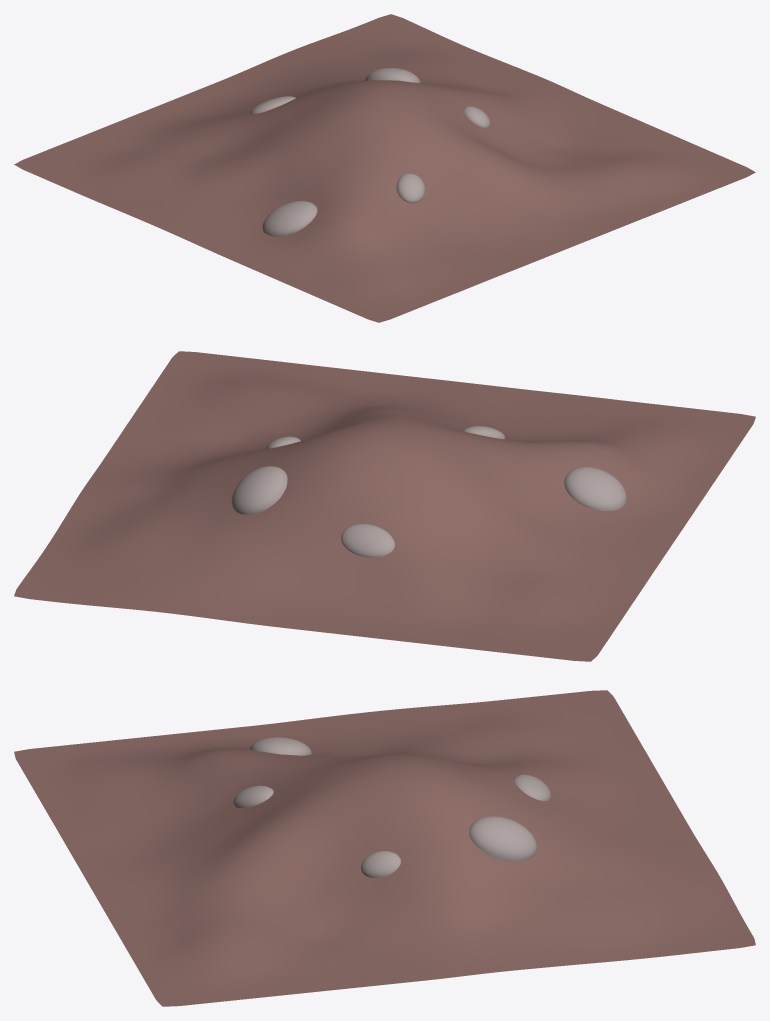
Rendered from SoilExport.fbx.
3 renders of one model, top to bottom at view 1: azimuth 30°, elevation 25°; view 2: azimuth 150°, elevation 25°; view 3: azimuth 270°, elevation 25°, orthographic. The views are drawn at different scales.
Parts seen in each view (by area): view 1: pr_soil, pr_stone_04, pr_stone_05, pr_stone_02; view 2: pr_soil, pr_stone_04, pr_stone_02, pr_stone_03; view 3: pr_soil, pr_stone_02, pr_stone_04, pr_stone_01, pr_stone_05, pr_stone_03.
Boxes of the visible parts, x1,y1,x2,y2 form: pr_soil: [14, 14, 755, 322]; pr_stone_04: [262, 201, 317, 236]; pr_stone_05: [396, 173, 425, 203]; pr_stone_02: [365, 68, 420, 83]; pr_soil: [14, 351, 755, 661]; pr_stone_04: [564, 467, 626, 510]; pr_stone_02: [231, 466, 287, 514]; pr_stone_03: [341, 524, 394, 557]; pr_soil: [14, 690, 755, 1006]; pr_stone_02: [469, 816, 537, 861]; pr_stone_04: [250, 737, 311, 755]; pr_stone_01: [361, 851, 400, 877]; pr_stone_05: [233, 785, 273, 807]; pr_stone_03: [513, 774, 550, 800].
Bounding box in the file's own units: 120 × 14.45 × 120.
